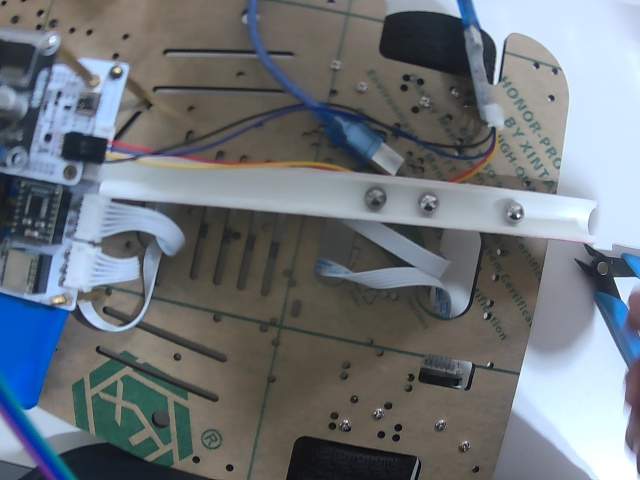steelball: (418, 192, 440, 214), (365, 188, 386, 209), (504, 202, 525, 223)
